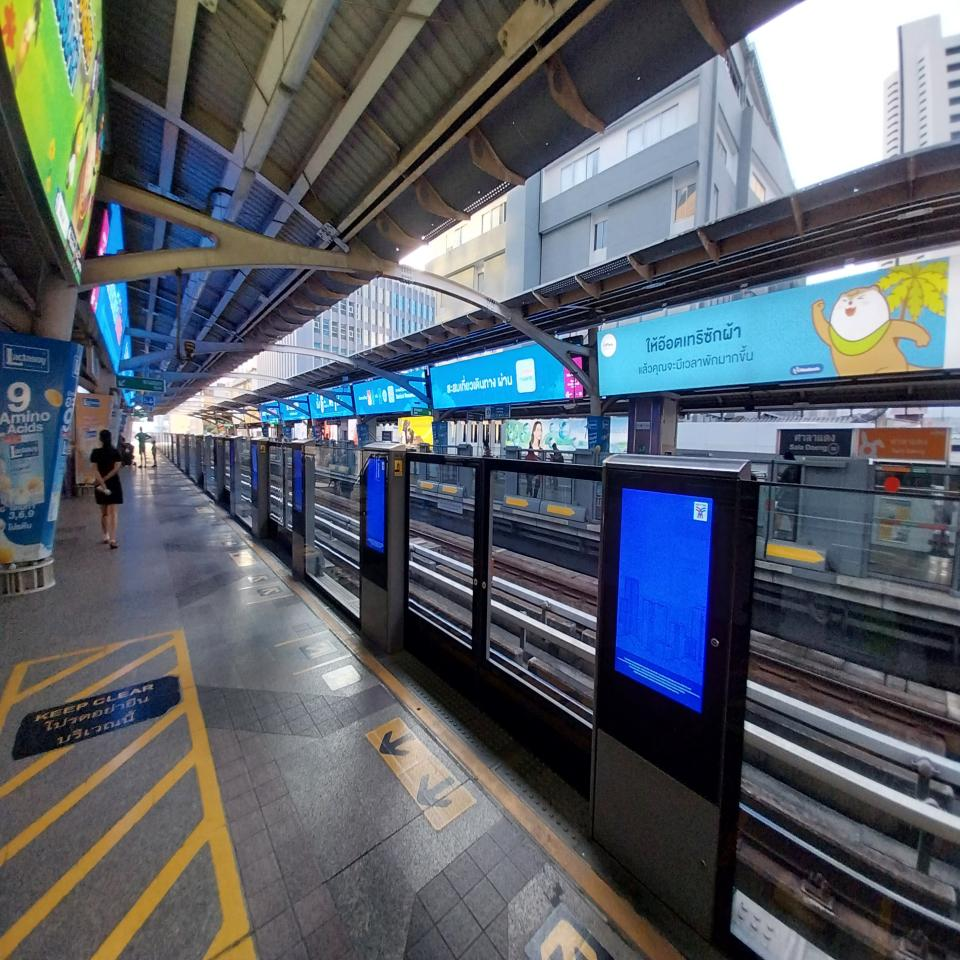signage: (854, 426, 949, 462), (778, 427, 854, 458)
